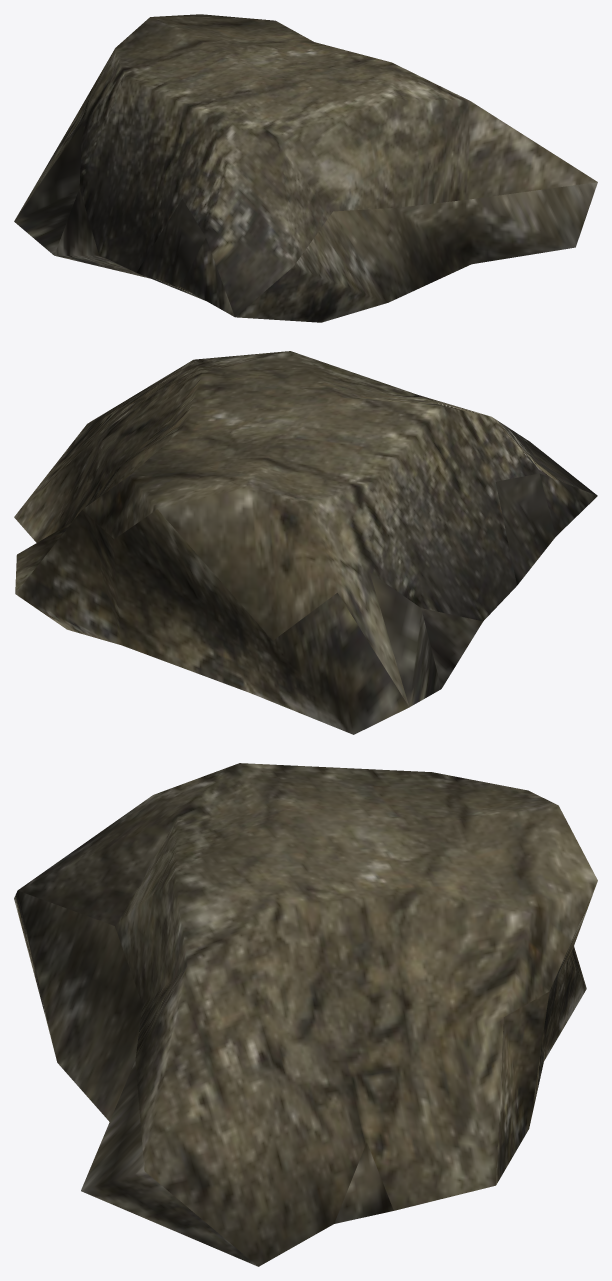
The model's file is rock_01_lod3.glb.
3 views of the same model, one above another, from view 1: azimuth 30°, elevation 25°; view 2: azimuth 150°, elevation 25°; view 3: azimuth 270°, elevation 25° (orthographic). The views are drawn at different scales.
Visible parts, largest first — view 1: Rock_01_LOD3; view 2: Rock_01_LOD3; view 3: Rock_01_LOD3.
Part boxes in pixels (x1,y1,x2,y2): Rock_01_LOD3: [14, 14, 597, 322]; Rock_01_LOD3: [14, 351, 597, 734]; Rock_01_LOD3: [14, 763, 597, 1266].
Bounding box in the file's own units: 1.21 × 0.4994 × 0.9818.
Materials: 1 (1 with a texture image).
